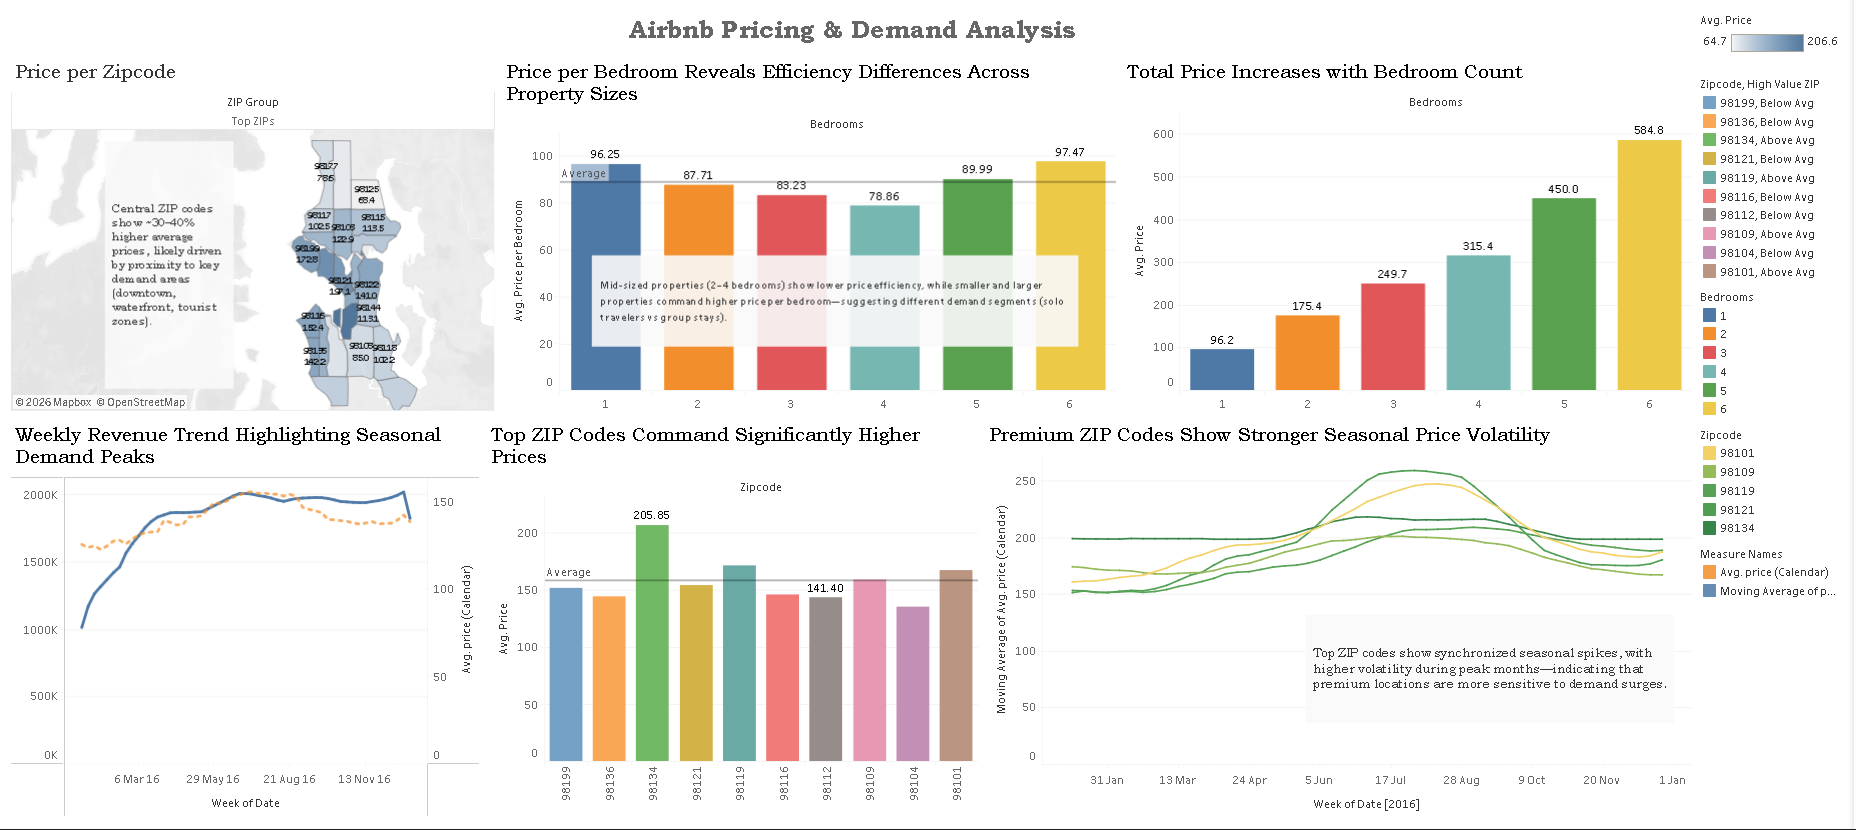

This screenshot's page, from the dashboard's own definition file:
{"tool":"tableau","page":{"name":"Dashboard 1","canvas":[1000,1000],"units":"permille","ordinal":0},"visuals":[{"type":"text","box":[4.7,9.3,990.6,76.7]},{"type":"worksheet","title":"Sheet 3","mark":"Automatic","rows":["price (Calendar)"],"cols":["date"],"box":[4.7,86,474.4,452.4]},{"type":"worksheet","title":"Sheet 4","mark":"Automatic","rows":["price"],"cols":["bedrooms"],"box":[479.1,86,259.6,452.4]},{"type":"worksheet","title":"Sheet 7","mark":"Automatic","rows":["Calculation_1850416562824806403"],"cols":["bedrooms"],"box":[738.8,86,256.6,452.4]},{"type":"worksheet","title":"Sheet 2","mark":"Multipolygon","box":[4.7,538.3,267.1,452.4]},{"type":"worksheet","title":"Sheet 1","mark":"Automatic","rows":["price"],"cols":["zipcode"],"box":[271.8,538.3,365.5,452.4]},{"type":"legend","title":"Sheet 1","param":"[federated.0t8du5j1j0ibq616rtid20asas1x].[none:zipcode:ok]","box":[637.3,538.3,49.8,452.4]},{"type":"worksheet","title":"Sheet 8","mark":"Automatic","cols":["date"],"box":[687.1,538.3,308.2,452.4]}]}

Visuals, with their boxes on the dashboard's canvas, which has no fixed pixel size, in thousandths of its width and height (x1, y1, x2, y2). These are canvas units, not pixel positions in the 1856x830 screenshot, which may show the page scaled, cropped or inside an application window:
text: x1=5, y1=9, x2=995, y2=86
"Sheet 3" worksheet: x1=5, y1=86, x2=479, y2=538
"Sheet 4" worksheet: x1=479, y1=86, x2=739, y2=538
"Sheet 7" worksheet: x1=739, y1=86, x2=995, y2=538
"Sheet 2" worksheet (Multipolygon marks): x1=5, y1=538, x2=272, y2=991
"Sheet 1" worksheet: x1=272, y1=538, x2=637, y2=991
"Sheet 1" legend: x1=637, y1=538, x2=687, y2=991
"Sheet 8" worksheet: x1=687, y1=538, x2=995, y2=991
